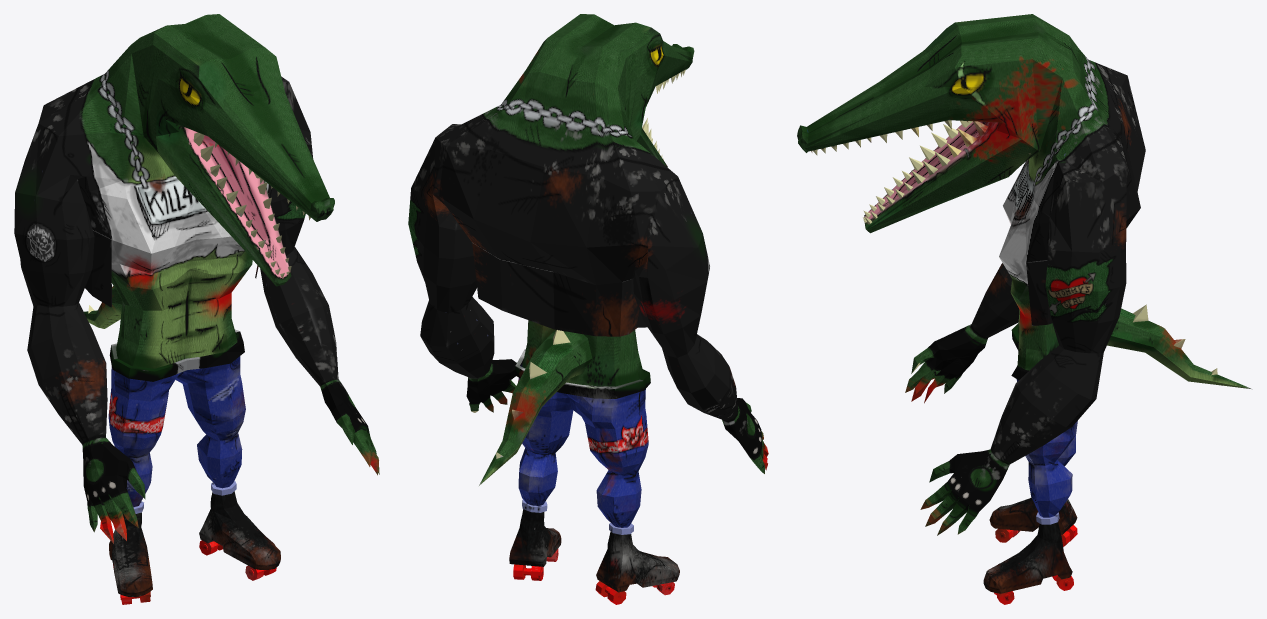
Rendered from cocodrilaBonesSelect_000033.obj.
The picture shows the model from 3 angles, left to right: view 1: azimuth 30°, elevation 25°; view 2: azimuth 150°, elevation 25°; view 3: azimuth 270°, elevation 25°; orthographic projection. The views are drawn at different scales.
Parts seen in each view (by area): view 1: Crocodile.002_Cylinder.002; view 2: Crocodile.002_Cylinder.002; view 3: Crocodile.002_Cylinder.002.
Boxes of the visible parts, box(x1,y1,x2,y2) form: Crocodile.002_Cylinder.002: box(14, 14, 379, 604); Crocodile.002_Cylinder.002: box(408, 14, 768, 604); Crocodile.002_Cylinder.002: box(797, 14, 1252, 604).
Bounding box in the file's own units: 3.78 × 6.72 × 5.1.
